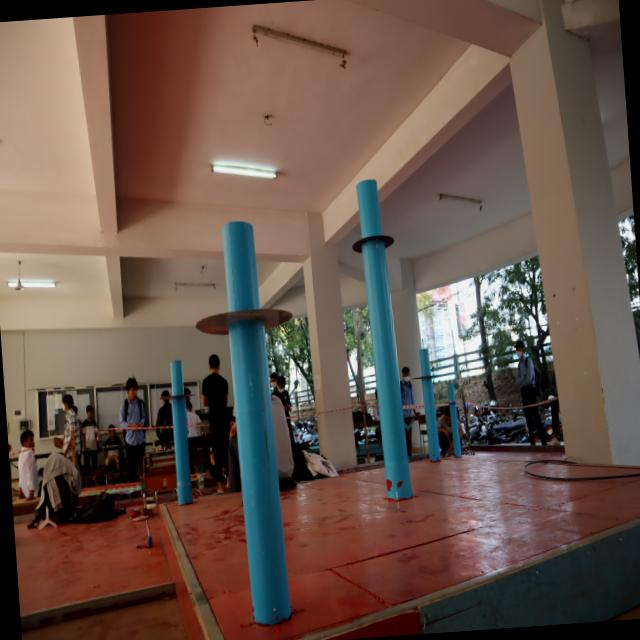pole: (186, 217, 296, 390), (338, 175, 408, 281), (157, 362, 203, 426), (407, 344, 440, 396), (442, 384, 463, 419)
